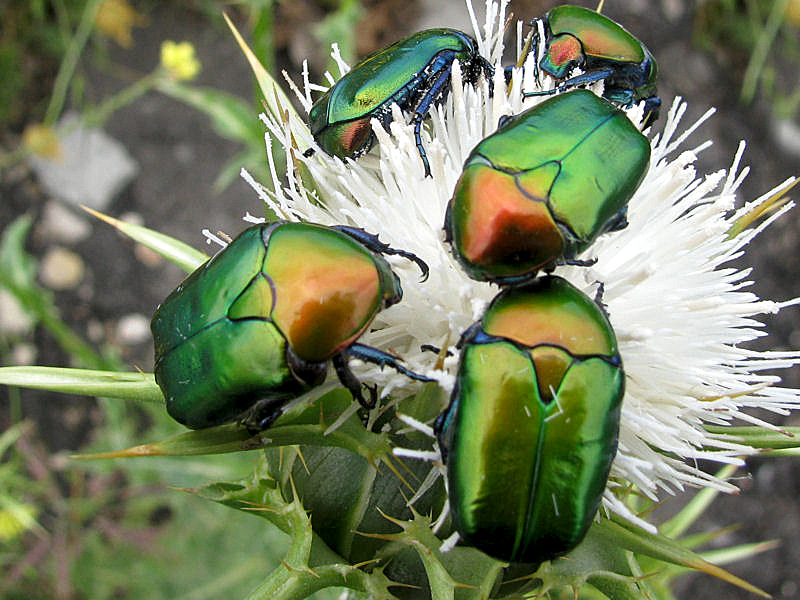Protaetia_cuprea_ignicollis: (129, 209, 431, 456), (431, 267, 632, 565), (422, 79, 666, 280)
